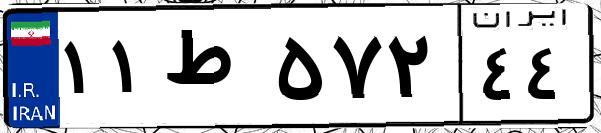1: (57, 26, 110, 100), (110, 28, 158, 98)
2: (385, 28, 445, 110)
4: (475, 38, 525, 113), (525, 38, 570, 115)
5: (270, 28, 330, 110)
7: (330, 28, 385, 110)
ط: (158, 20, 270, 120)
